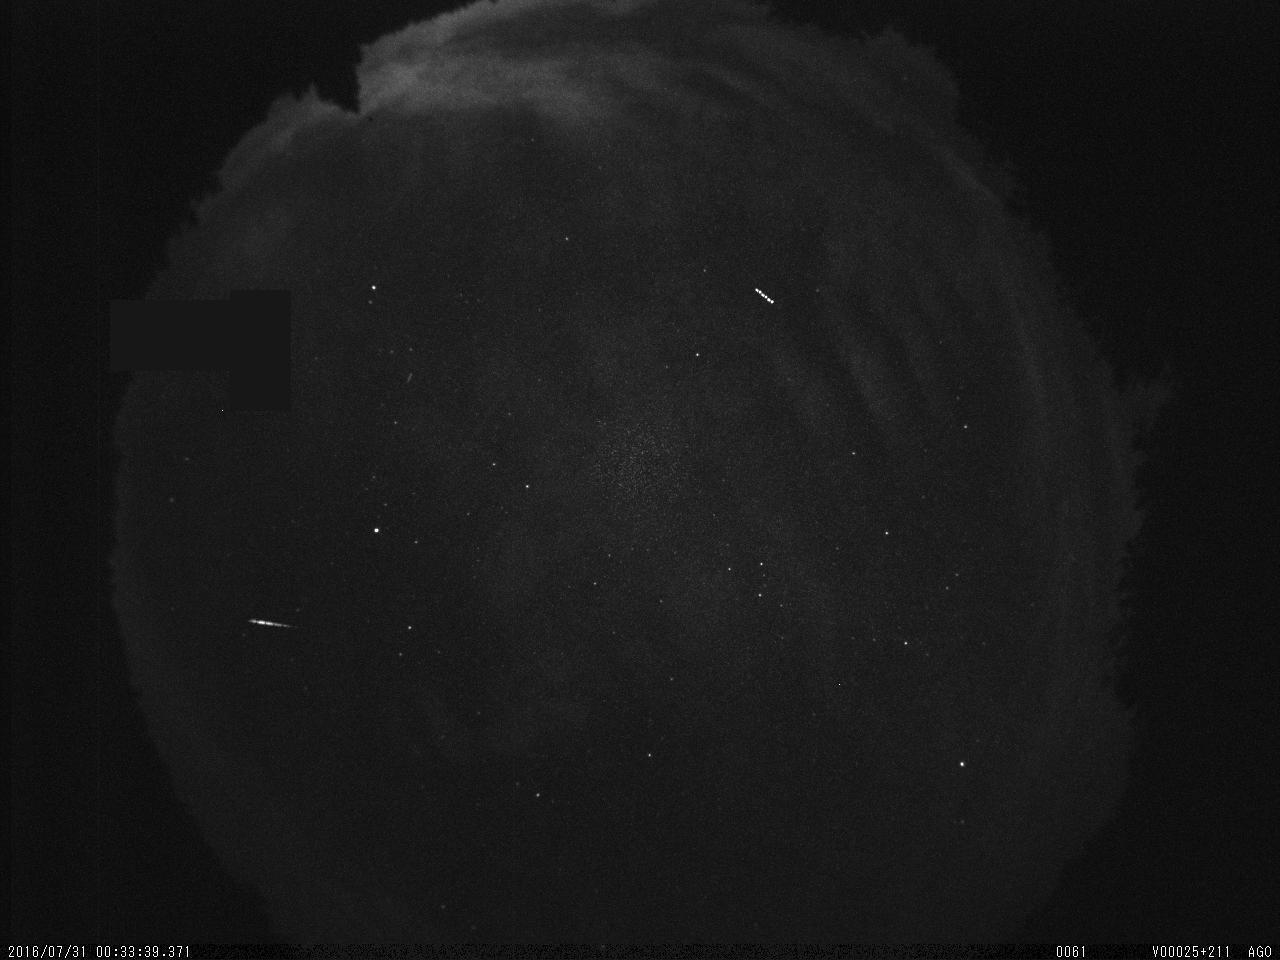meteor: (240, 610, 313, 641)
satelite: (747, 281, 784, 316)
